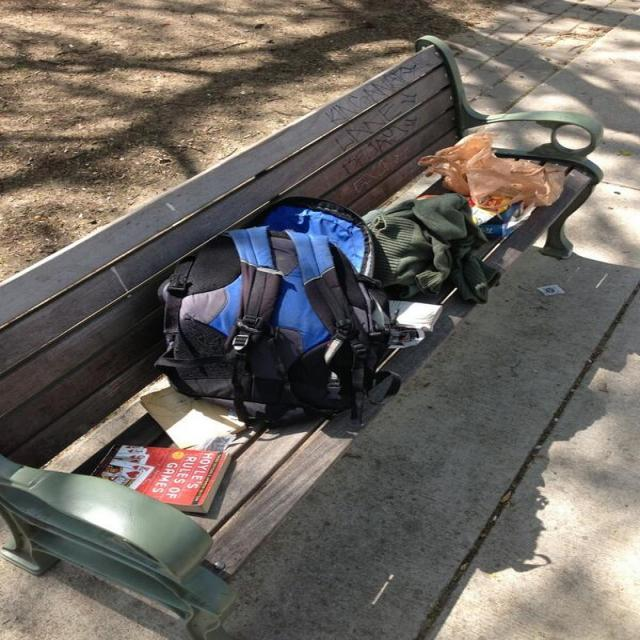Backpacks: (135, 203, 410, 451)
